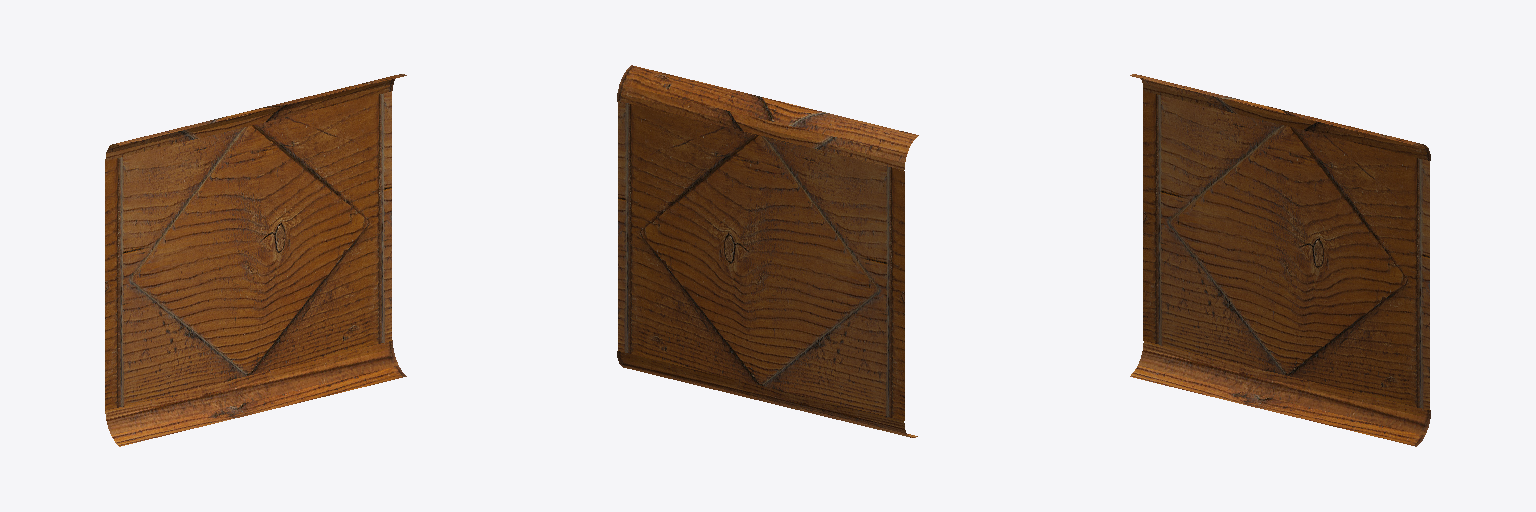
3 views of the same model, side by side, from view 1: azimuth 30°, elevation 25°; view 2: azimuth 150°, elevation 25°; view 3: azimuth 330°, elevation 25° (orthographic).
Visible parts, largest first — view 1: wall; view 2: wall; view 3: wall.
Boxes of the visible parts, <box> form: wall: <box>105,74,406,446</box>; wall: <box>617,65,918,437</box>; wall: <box>1130,74,1430,446</box>.
Bounding box in the file's own units: 1 × 1 × 0.0873.
Materials: 1 (1 with a texture image).